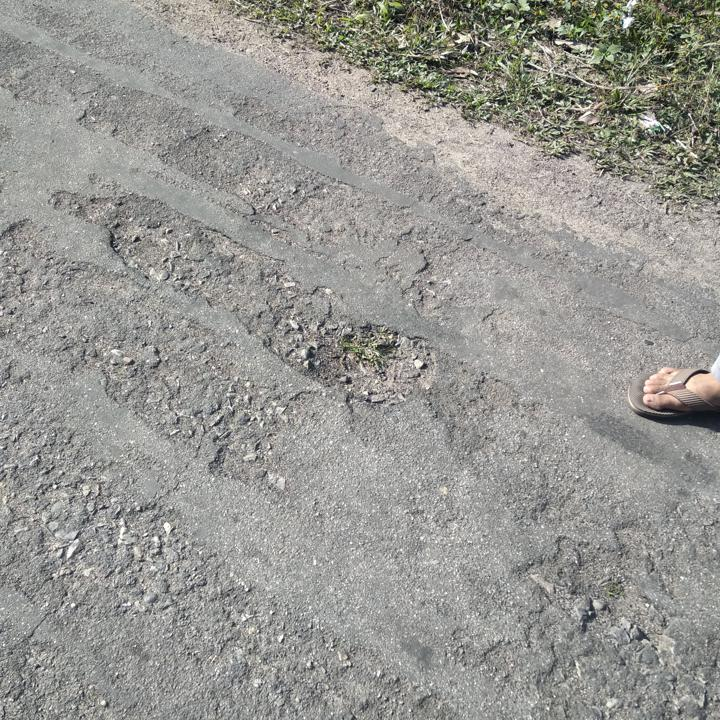pothole: (288, 320, 435, 411)
